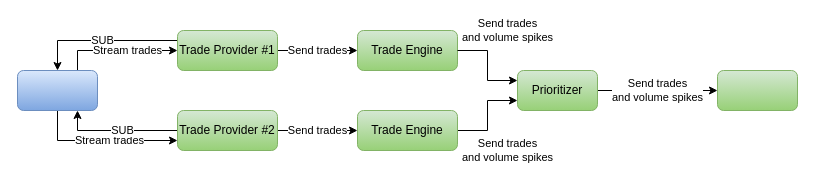
Image size: 815x180. Some labels were removed from this diagram. The shapes that lost their labels are listed below. From the top down, each one's centre as x and y in pixels, then its label:
At point (57, 90): "Binance".
At point (757, 90): "RabbitMQ".
